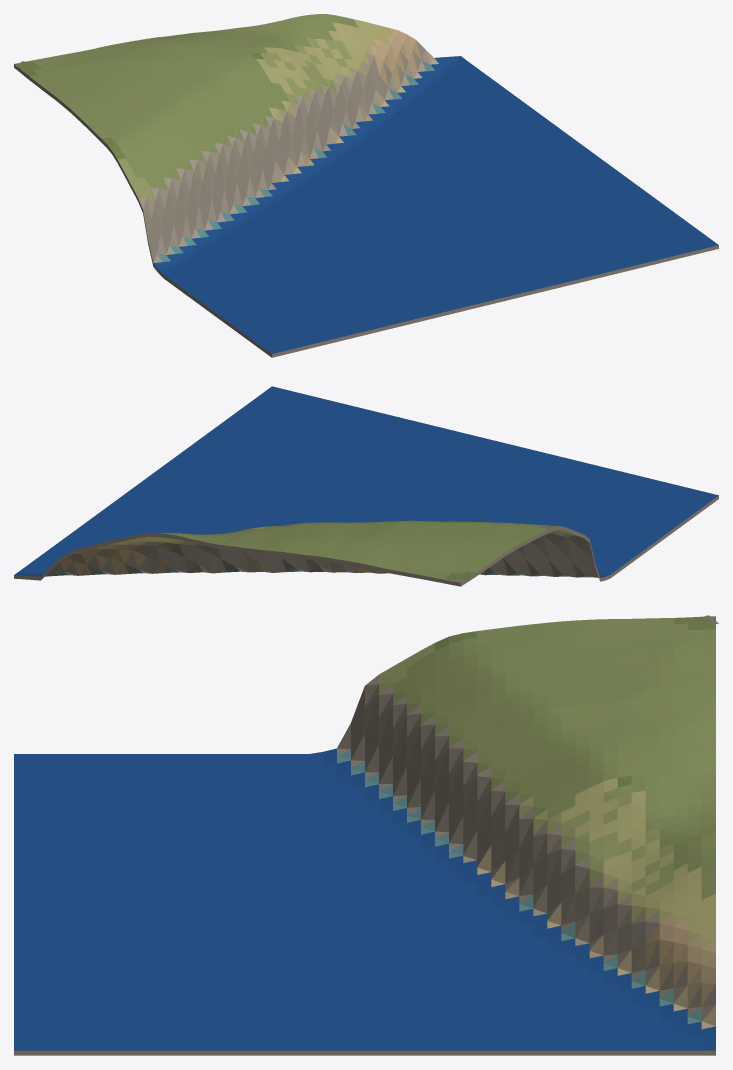
The model's file is parca_+8_-9-uzak.glb.
The picture shows the model from 3 angles, top to bottom: view 1: azimuth 30°, elevation 25°; view 2: azimuth 150°, elevation 25°; view 3: azimuth 270°, elevation 25°; orthographic projection. The views are drawn at different scales.
Visible parts, largest first — view 1: parca_+8_-9_arazi_uzak; view 2: parca_+8_-9_arazi_uzak; view 3: parca_+8_-9_arazi_uzak.
Part boxes in pixels (x1,y1,x2,y2): parca_+8_-9_arazi_uzak: (14, 14, 718, 357); parca_+8_-9_arazi_uzak: (14, 386, 718, 586); parca_+8_-9_arazi_uzak: (14, 616, 715, 1055).
Size of the model in its own units: 1004 by 225 by 1004.
